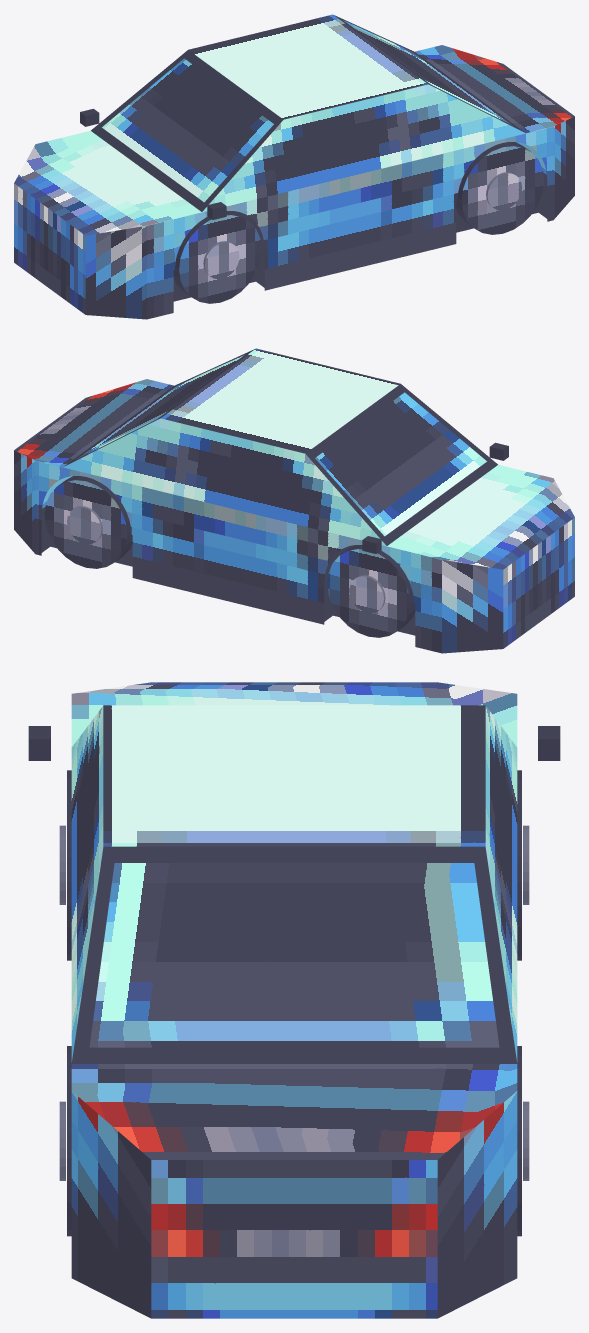
Rendered from car-21-v1.glb.
3 renders of one model, top to bottom at view 1: azimuth 30°, elevation 25°; view 2: azimuth 150°, elevation 25°; view 3: azimuth 270°, elevation 25°, orthographic. The views are drawn at different scales.
Visible parts, largest first — view 1: Passenger-body-west, Cabin-windows-west, Roof, Windshield-glass, Hood, Front-fascia, Trunk, Front-corner--1, Tire_RL, Tire_FL, Windshield-frame, Rear-window-glass (+7 smaller); view 2: Passenger-body-east, Cabin-windows-east, Roof, Windshield-glass, Hood, Front-fascia, Trunk, Front-corner-1, Tire_RR, Tire_FR, Windshield-frame, Rear-window-glass (+7 smaller); view 3: Rear-window-glass, Roof, Rear-fascia, Trunk, Rear-window-frame, Rear-corner-1, Rear-corner--1, Hood, Cabin-windows-east, Cabin-windows-west, Tire_FL, Tire_FR (+4 smaller).
Part boxes in pixels (left/top/right/bottom): Passenger-body-west: left=147, top=126, right=553, bottom=319; Cabin-windows-west: left=202, top=84, right=525, bottom=212; Roof: left=188, top=14, right=427, bottom=119; Windshield-glass: left=102, top=58, right=273, bottom=202; Hood: left=14, top=131, right=201, bottom=235; Front-fascia: left=14, top=183, right=85, bottom=314; Trunk: left=415, top=45, right=574, bottom=132; Front-corner--1: left=85, top=225, right=146, bottom=319; Tire_RL: left=456, top=142, right=544, bottom=234; Tire_FL: left=173, top=211, right=261, bottom=303; Windshield-frame: left=91, top=50, right=283, bottom=211; Rear-window-glass: left=343, top=20, right=513, bottom=125; Passenger-body-east: left=35, top=460, right=441, bottom=653; Cabin-windows-east: left=63, top=418, right=386, bottom=546; Roof: left=161, top=348, right=400, bottom=453; Windshield-glass: left=315, top=392, right=486, bottom=536; Hood: left=387, top=465, right=574, bottom=569; Front-fascia: left=503, top=517, right=574, bottom=648; Trunk: left=14, top=379, right=173, bottom=466; Front-corner-1: left=442, top=559, right=503, bottom=653; Tire_RR: left=44, top=476, right=132, bottom=568; Tire_FR: left=327, top=545, right=415, bottom=637; Windshield-frame: left=305, top=384, right=497, bottom=545; Rear-window-glass: left=75, top=354, right=245, bottom=459; Rear-window-glass: left=89, top=863, right=499, bottom=1047; Roof: left=103, top=705, right=485, bottom=846; Rear-fascia: left=151, top=1160, right=437, bottom=1318; Trunk: left=71, top=1064, right=517, bottom=1159; Rear-window-frame: left=71, top=846, right=517, bottom=1063; Rear-corner-1: left=437, top=1091, right=517, bottom=1318; Rear-corner--1: left=71, top=1091, right=151, bottom=1318; Hood: left=71, top=682, right=517, bottom=746; Cabin-windows-east: left=485, top=706, right=517, bottom=1062; Cabin-windows-west: left=71, top=706, right=103, bottom=1062; Tire_FL: left=67, top=770, right=71, bottom=960; Tire_FR: left=517, top=770, right=521, bottom=960.
Size of the model in its own units: 71 by 22 by 33.4.
1 material, 1 textured.
